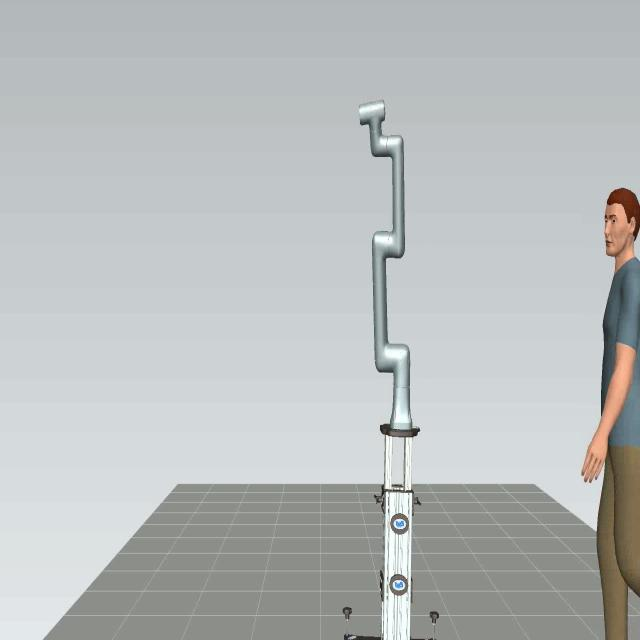human: (581, 186, 640, 638)
robot: (353, 98, 439, 442)
